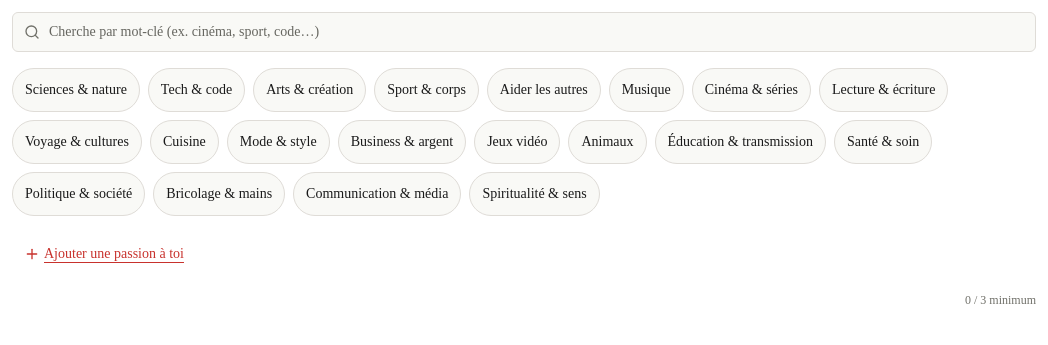
Test: PassionsPicker › rejects an empty custom slug with an inline error
What coordinates should you click on to do the following:
click the button with test id "passions-add-custom-trigger"
I would click on:
 (104, 254)
Its box is [12,232,196,276].
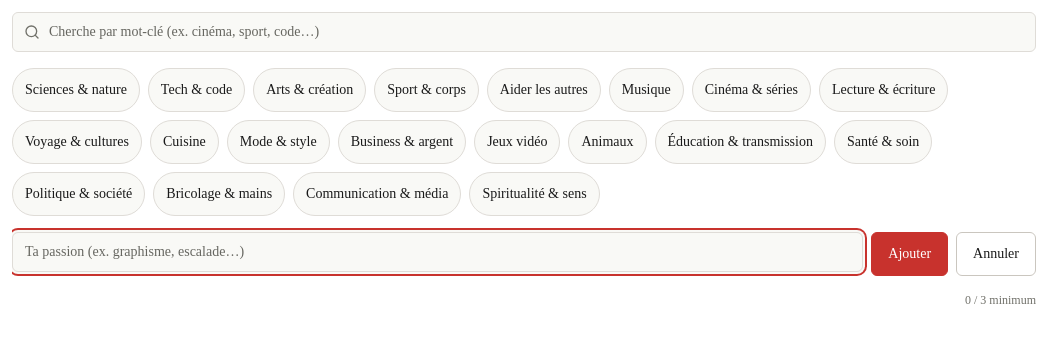
What coordinates should you click on to do the following:
click the button "Ajouter"
I would click on:
 (910, 254)
Its box is [871,232,948,276].
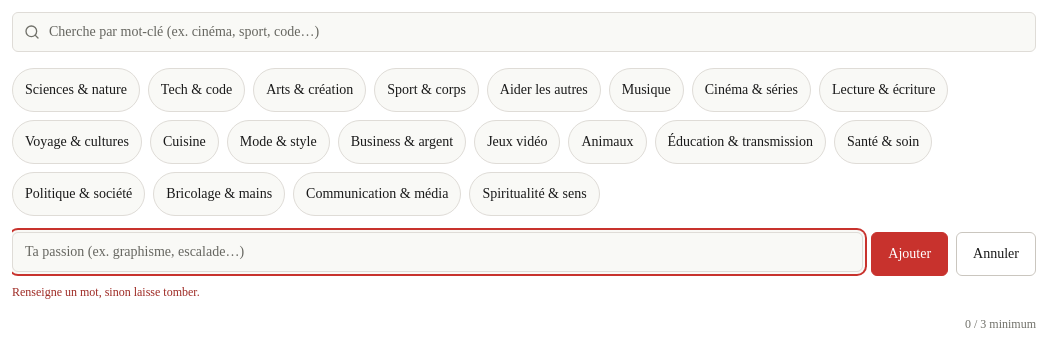
expect the message "Renseigne un mot, sinon laisse tomber." is shown: met, box [12,285,200,299]
